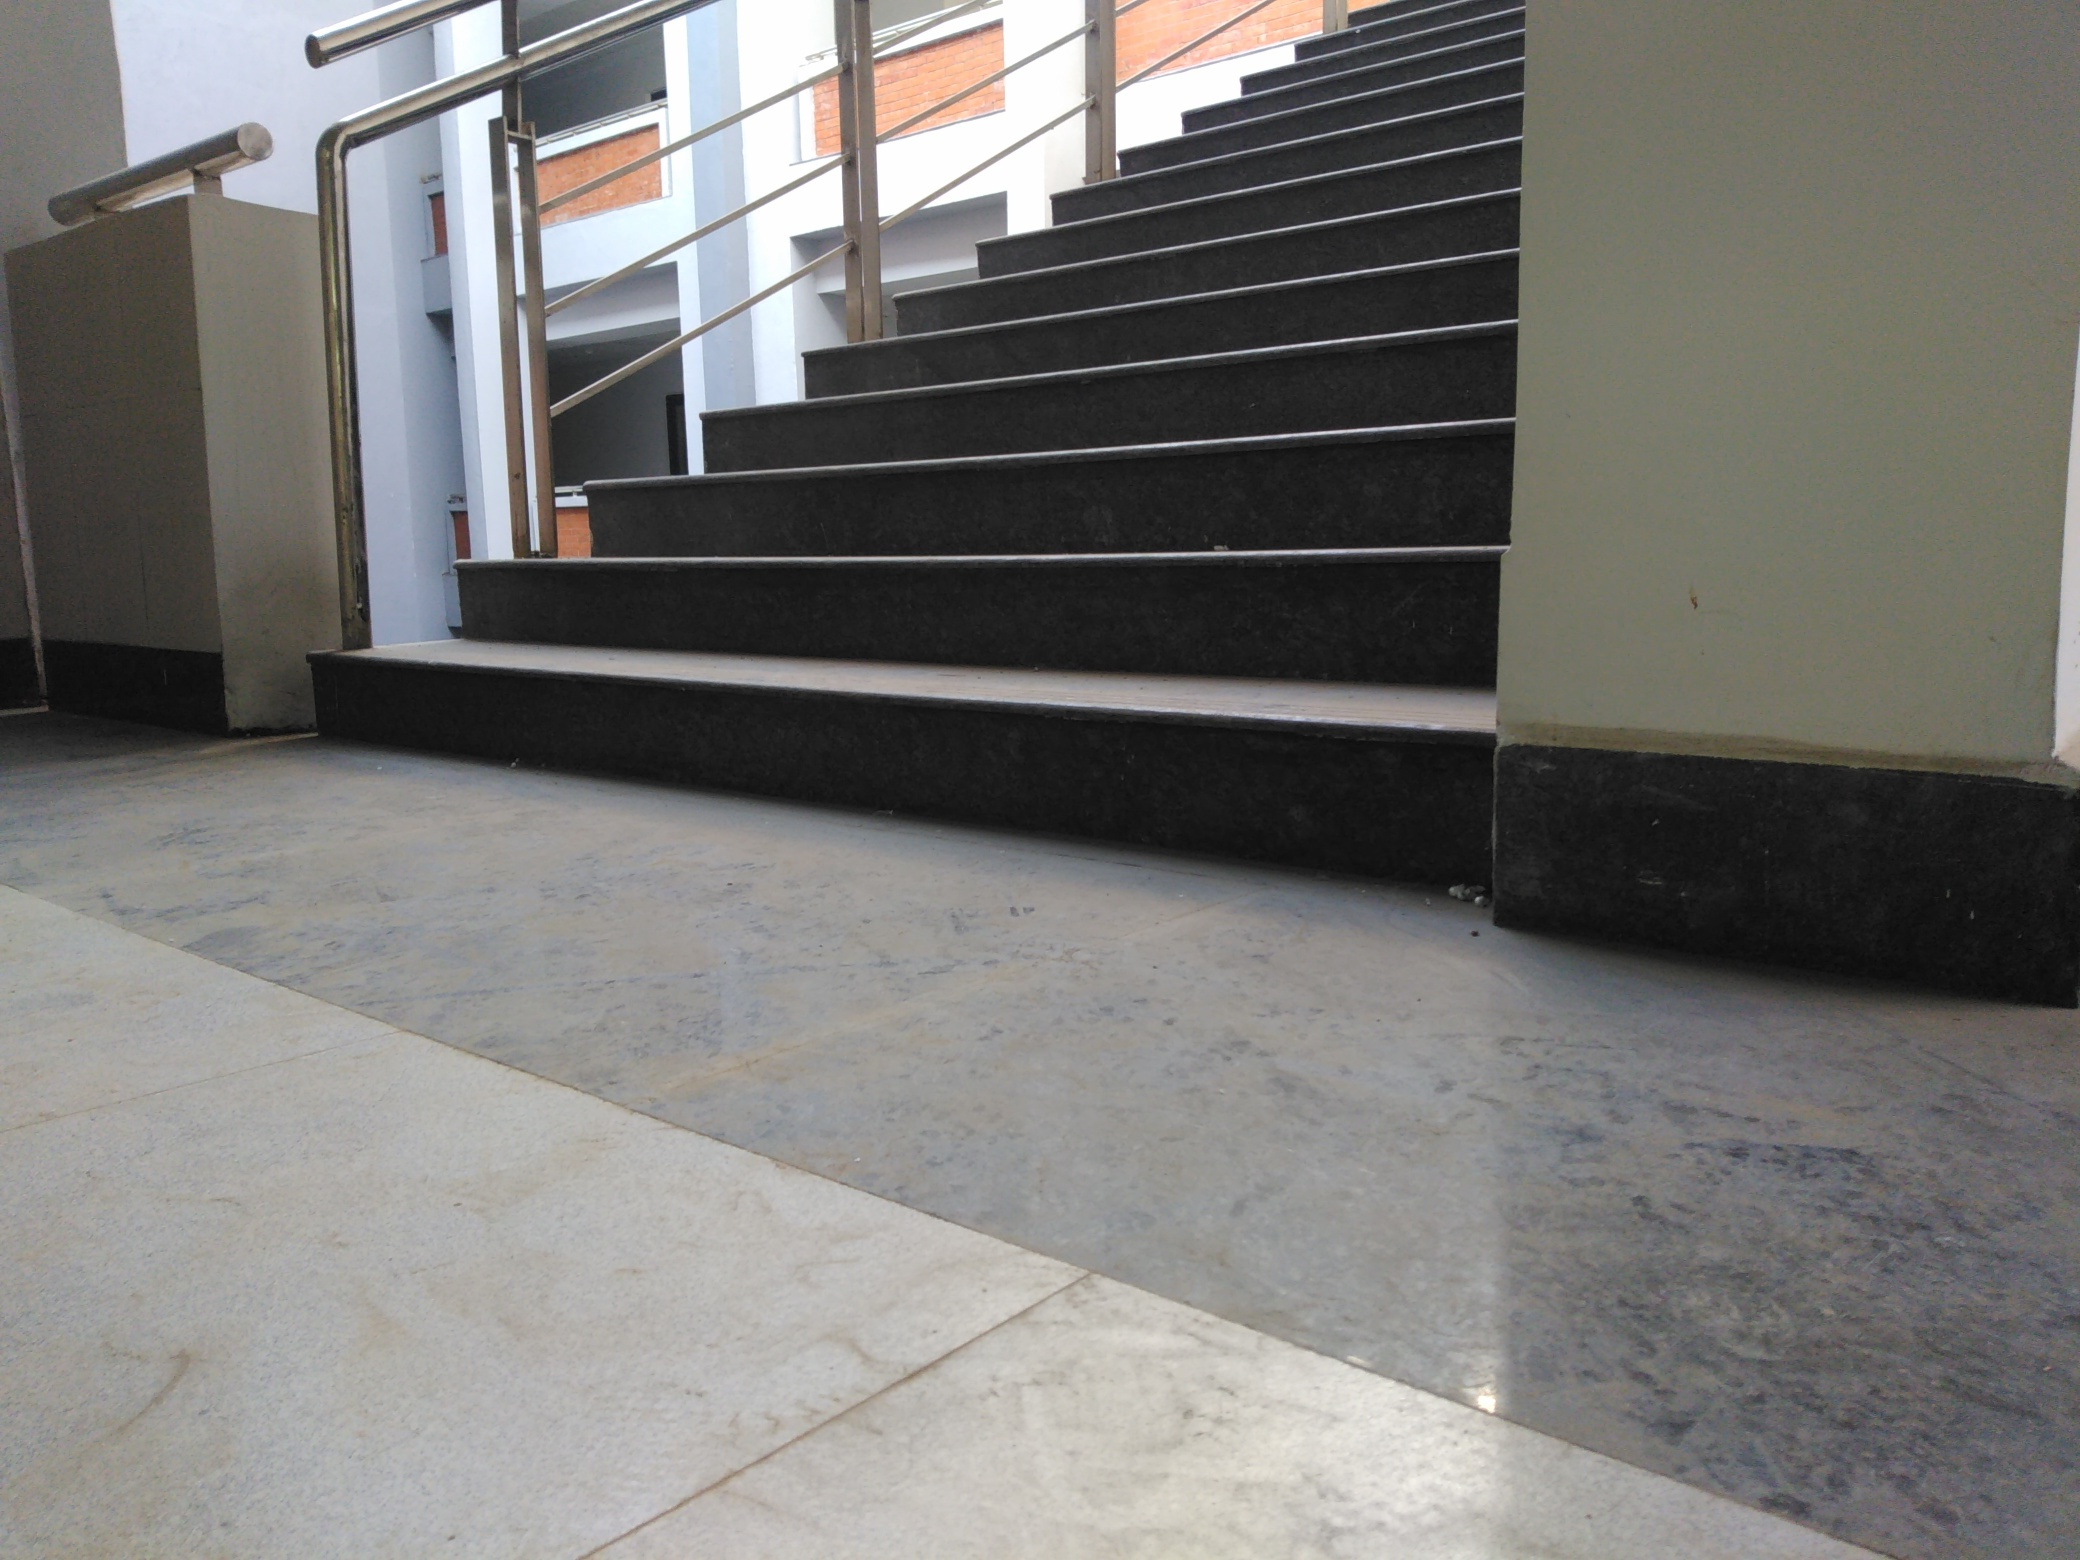stairs_up: (337, 5, 1505, 839)
